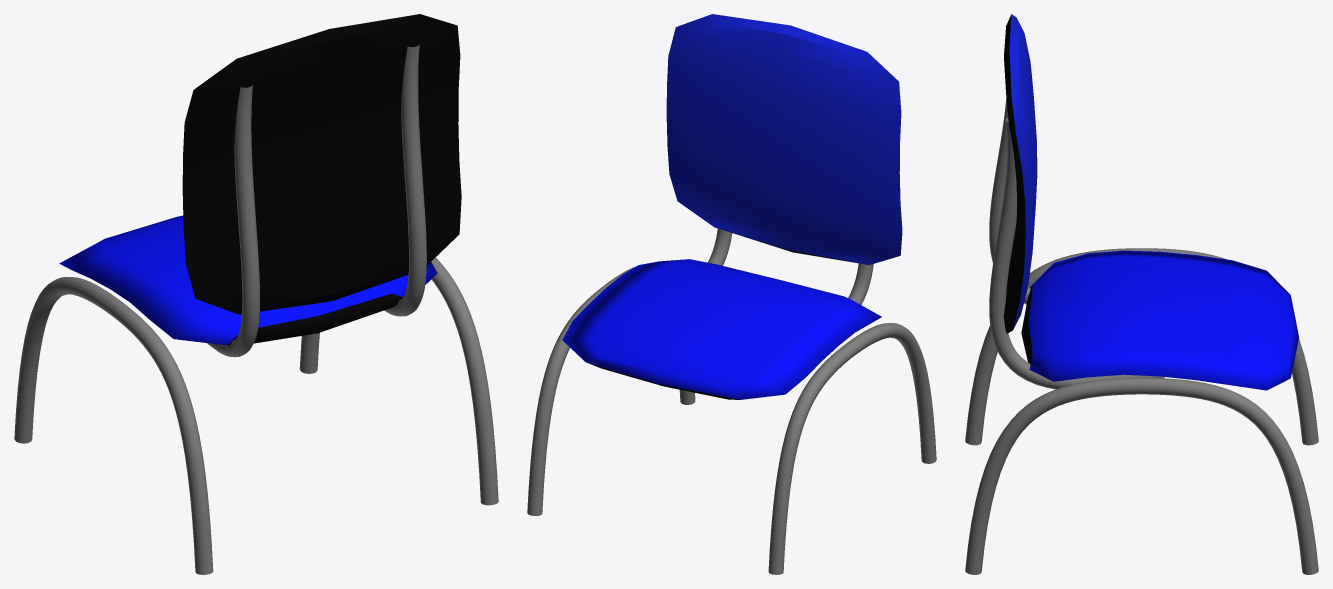
The model's file is SillaClase.fbx.
The picture shows the model from 3 angles, left to right: view 1: azimuth 30°, elevation 25°; view 2: azimuth 150°, elevation 25°; view 3: azimuth 270°, elevation 25°; orthographic projection. The views are drawn at different scales.
Visible parts, largest first — view 1: NurbsPath; view 2: NurbsPath; view 3: NurbsPath.
Part boxes in pixels (left/top/right/bottom): NurbsPath: left=14, top=14, right=498, bottom=574; NurbsPath: left=527, top=14, right=936, bottom=574; NurbsPath: left=965, top=14, right=1318, bottom=574.
Bounding box in the file's own units: 233 × 366 × 255.
